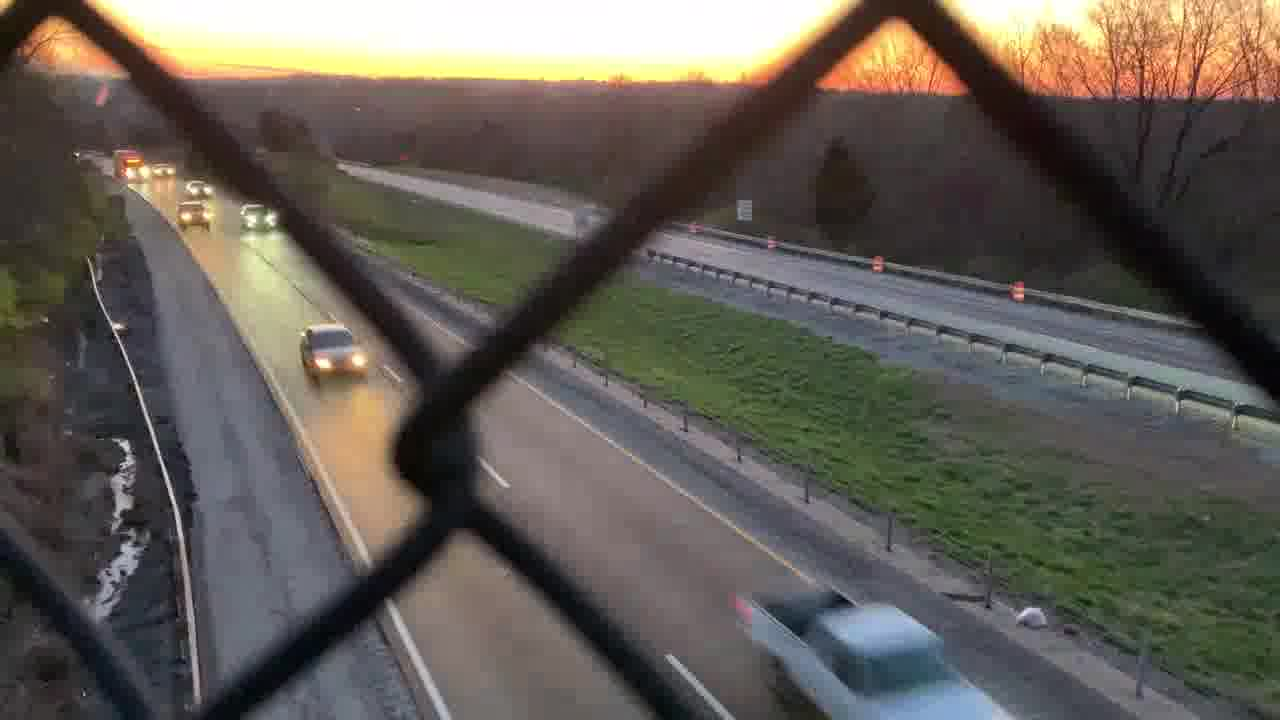lightTruck: (729, 578, 1012, 720)
smallCar: (299, 315, 367, 387)
